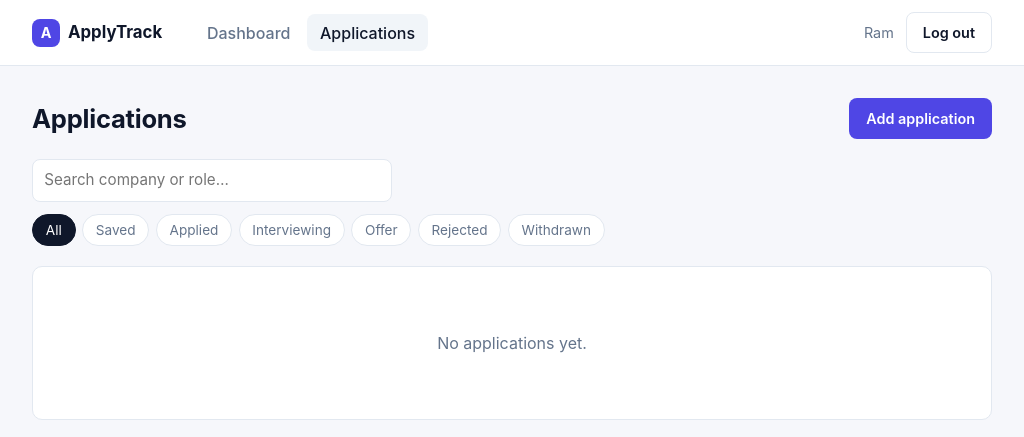
Test: applications list › sends the status filter to the API
Expected: the text "No applications yet." is shown, [437,333,587,353]
Click the button "Interviewing" at (292, 230), box [239,214,345,246]
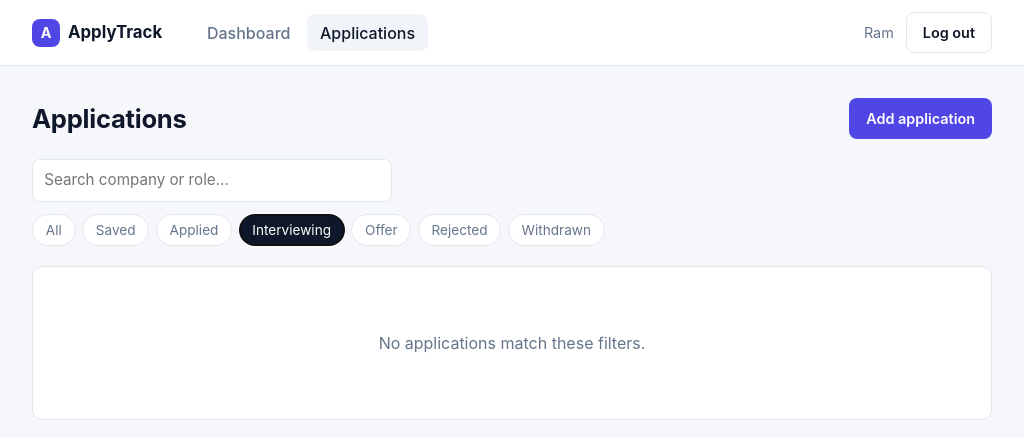
Expected: the text "No applications match these filters." is shown, [379,333,645,353]
